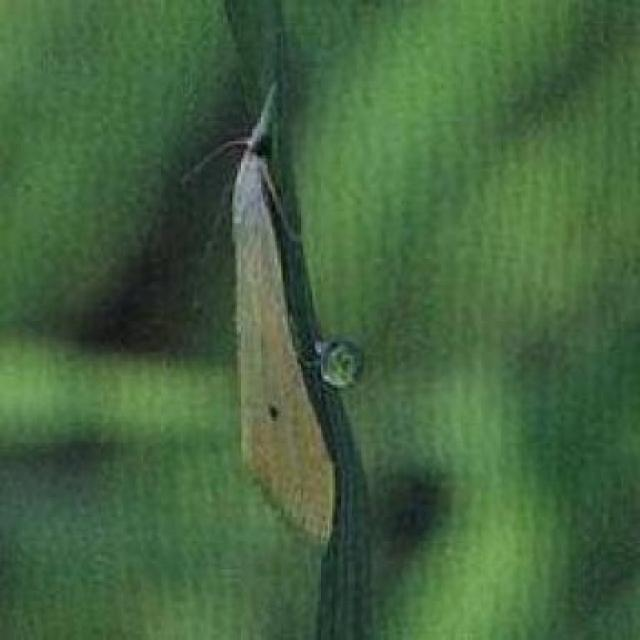stem-borer: (180, 83, 338, 543)
